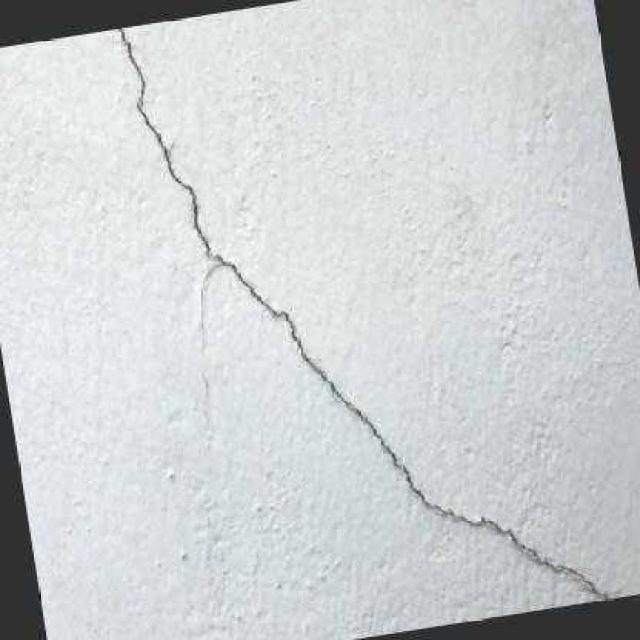D00: (114, 27, 610, 600)
